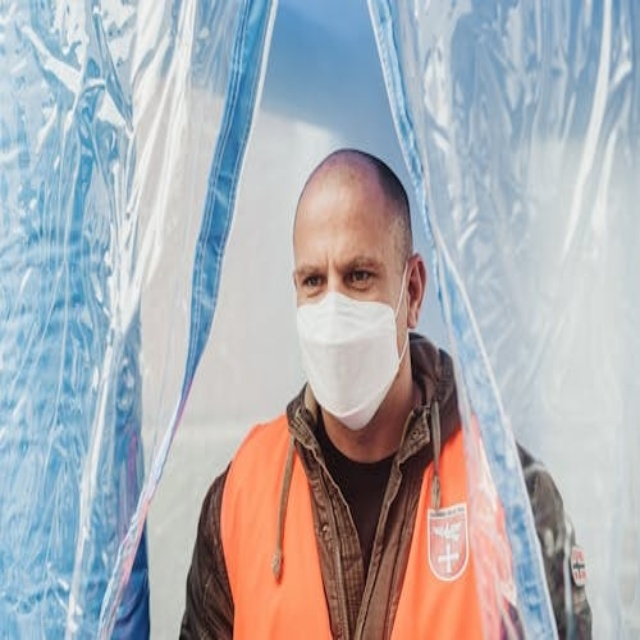Mascara: (296, 263, 410, 427)
Sin_gafas: (293, 248, 393, 308)
